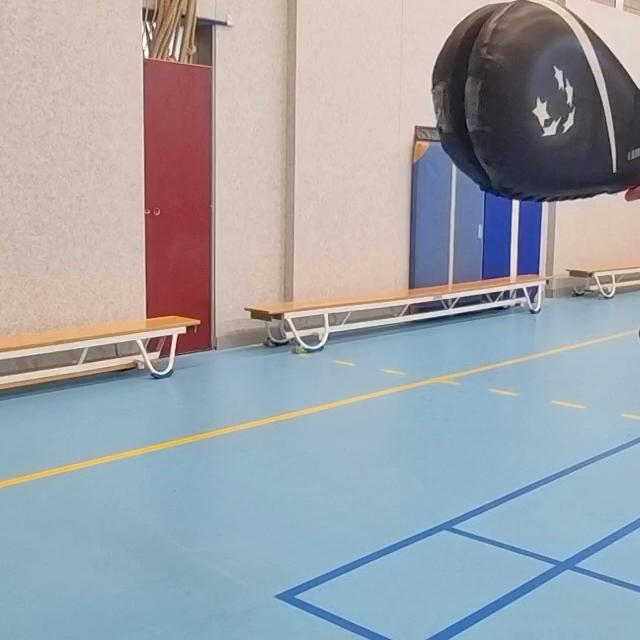paddle: (425, 0, 640, 205)
